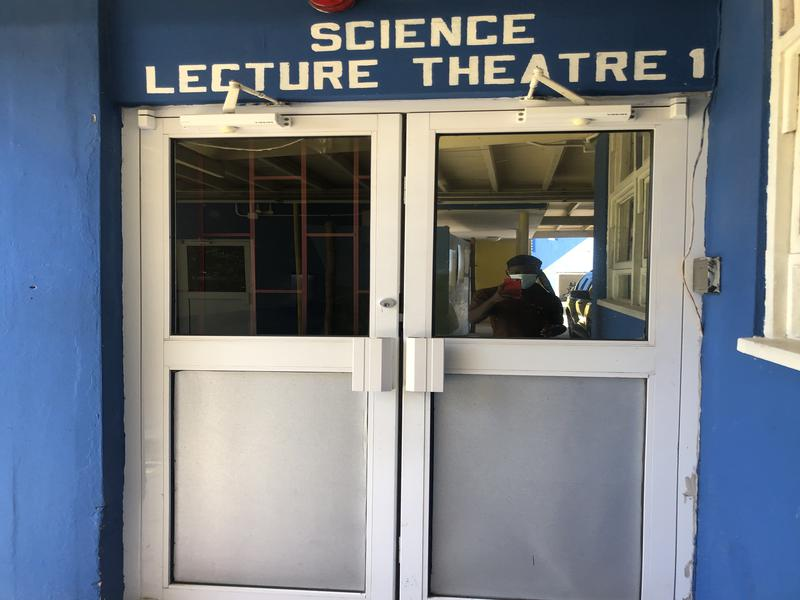18.0051836_-76.7497262_pclt1: (89, 3, 728, 600)
